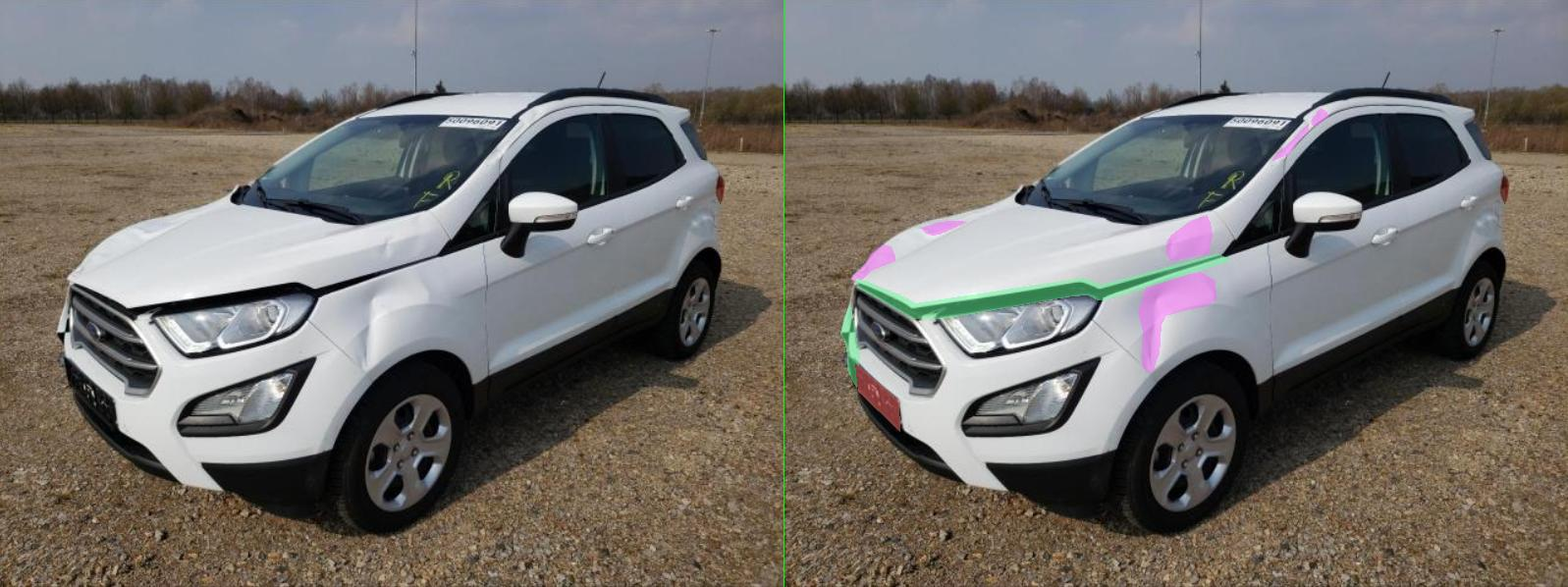Broken part: (143, 253, 890, 318), (112, 304, 149, 387)
Dent: (707, 272, 863, 372), (764, 215, 855, 260), (134, 244, 220, 283), (977, 124, 1047, 160), (273, 221, 364, 235), (1053, 108, 1089, 127)
Missing part: (141, 363, 230, 431)
